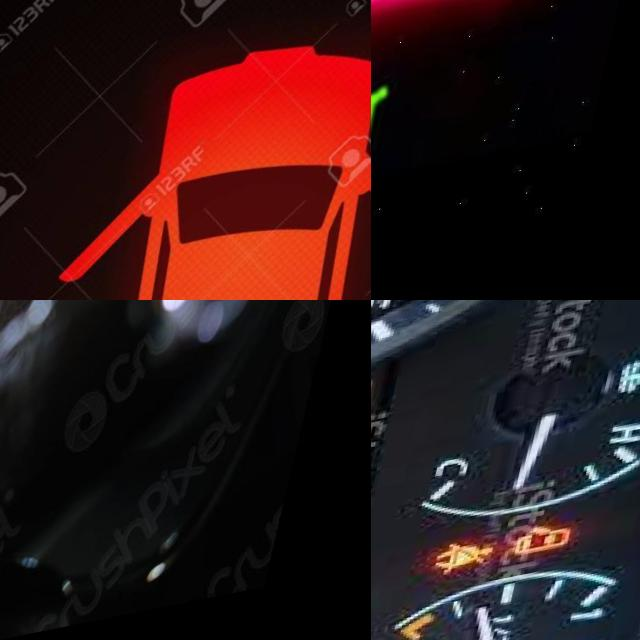Seat Belt: (442, 538, 517, 585)
